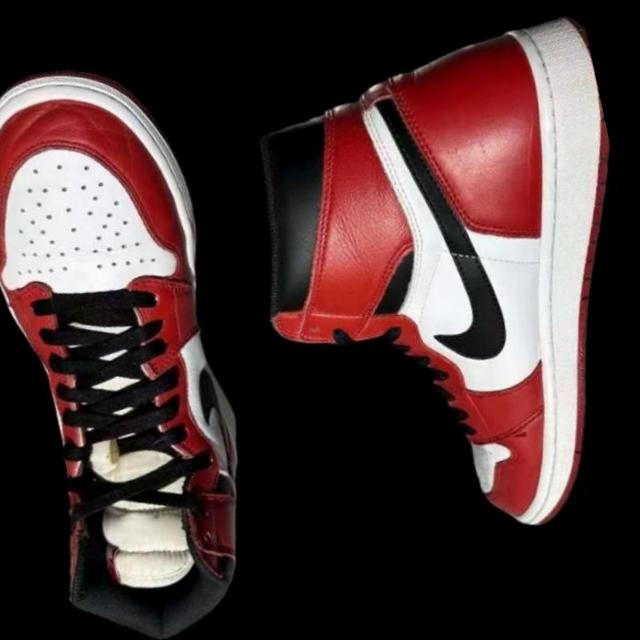nike_original_jordan: (203, 0, 640, 582), (0, 39, 311, 640)
